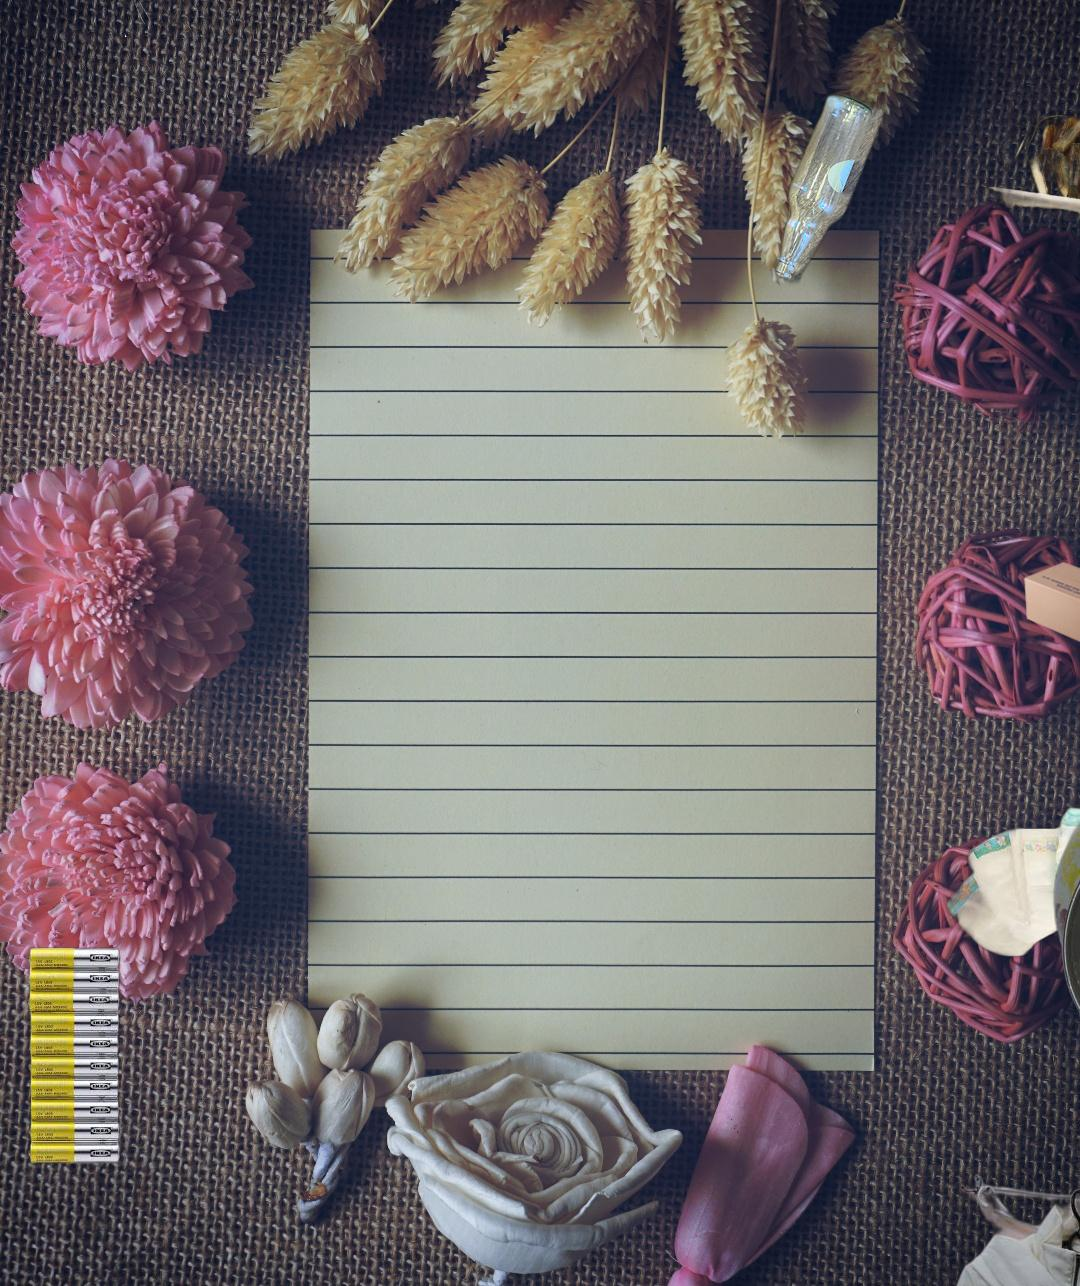battery: (24, 945, 123, 1166)
biological: (752, 6, 1080, 341)
clothes: (892, 1167, 1080, 1286)
glass: (768, 69, 890, 288)
metal-cans: (1050, 787, 1080, 1096)
trash: (943, 802, 1080, 983)
trashbox-cardboard: (931, 1196, 1080, 1286), (1023, 562, 1080, 653)
